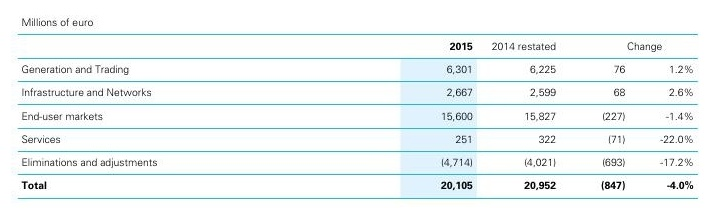table: (0, 0, 723, 214)
